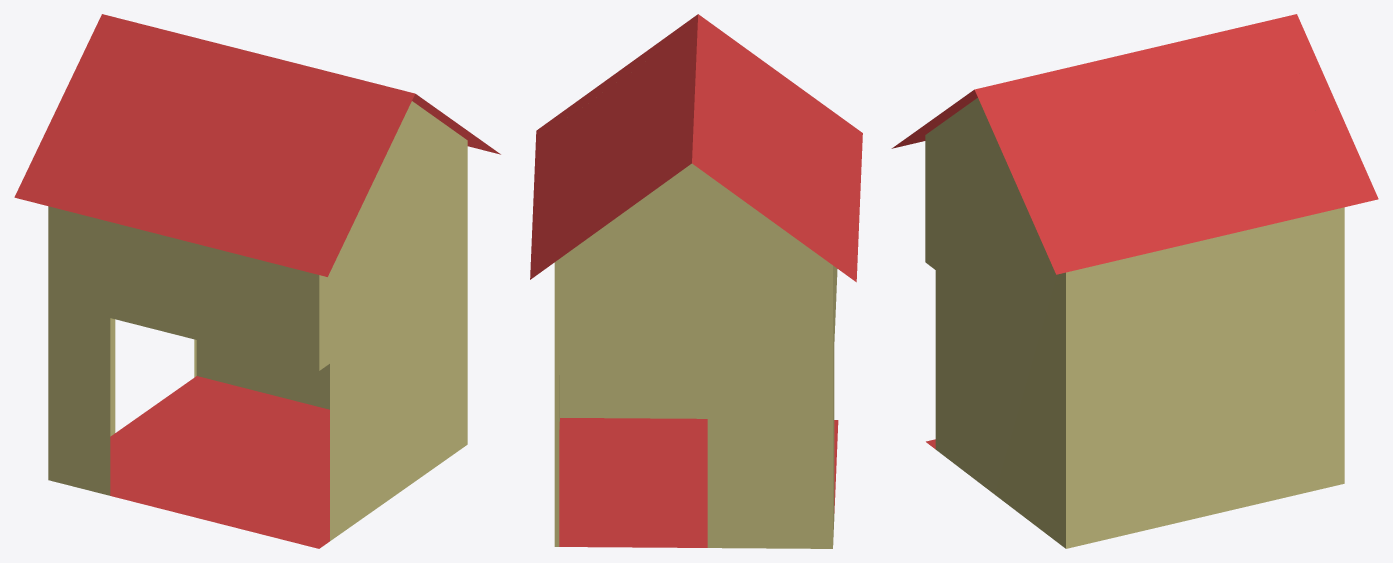
The picture shows the model from 3 angles, left to right: view 1: azimuth 30°, elevation 25°; view 2: azimuth 150°, elevation 25°; view 3: azimuth 270°, elevation 25°; orthographic projection. The views are drawn at different scales.
Size of the model in its own units: 14.23 by 14.56 by 13.56.
